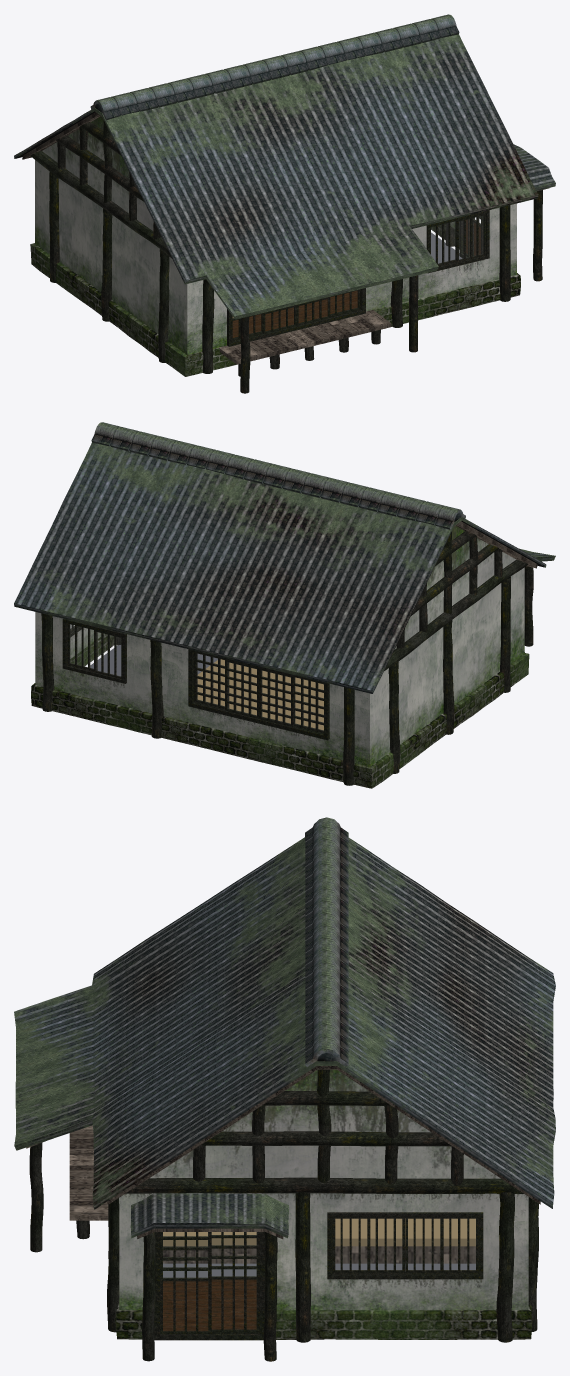
File: old_house.glb
The picture shows the model from 3 angles, top to bottom: view 1: azimuth 30°, elevation 25°; view 2: azimuth 150°, elevation 25°; view 3: azimuth 270°, elevation 25°; orthographic projection. The views are drawn at different scales.
Parts seen in each view (by area): view 1: house.lp; view 2: house.lp; view 3: house.lp.
Part boxes in pixels (x1,y1,x2,y2): house.lp: (14, 14, 555, 393); house.lp: (14, 422, 555, 788); house.lp: (14, 817, 555, 1361).
Size of the model in its own units: 9.78 by 5.34 by 8.84.
6 materials, 6 textured.
